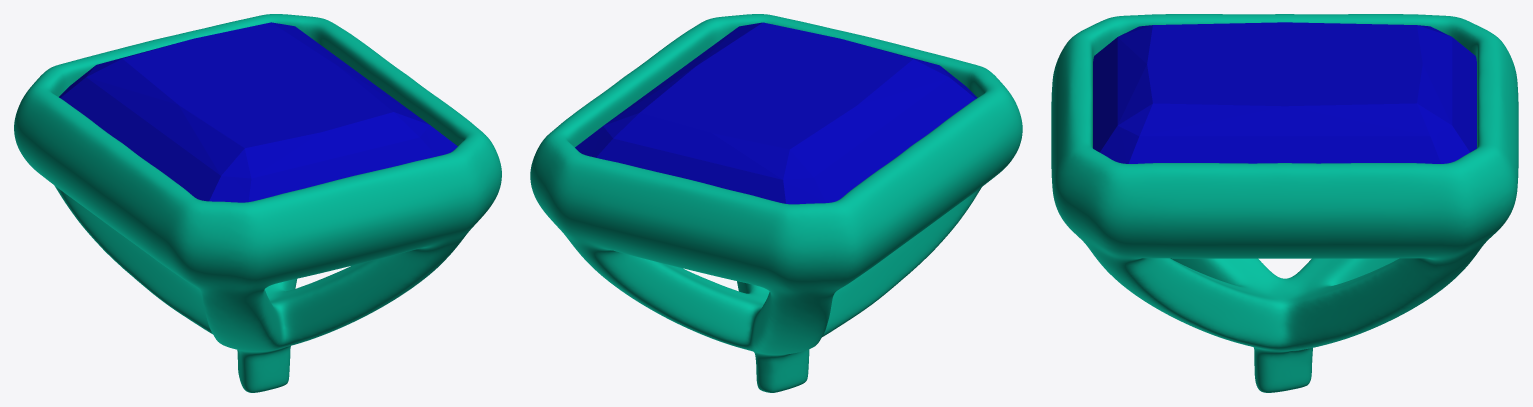
The model's file is Radiant.glb.
3 renders of one model, left to right at view 1: azimuth 30°, elevation 25°; view 2: azimuth 150°, elevation 25°; view 3: azimuth 270°, elevation 25°, orthographic. The views are drawn at different scales.
Visible parts, largest first — view 1: /GSMOD388300- BEZEL_Radiant_IJ.3dm, Diamond_Radiant; view 2: /GSMOD388300- BEZEL_Radiant_IJ.3dm, Diamond_Radiant; view 3: /GSMOD388300- BEZEL_Radiant_IJ.3dm, Diamond_Radiant.
Part boxes in pixels (x1,y1,x2,y2): /GSMOD388300- BEZEL_Radiant_IJ.3dm: (14, 14, 501, 392); Diamond_Radiant: (59, 22, 457, 202); /GSMOD388300- BEZEL_Radiant_IJ.3dm: (530, 14, 1022, 392); Diamond_Radiant: (575, 22, 977, 204); /GSMOD388300- BEZEL_Radiant_IJ.3dm: (1051, 14, 1518, 392); Diamond_Radiant: (1093, 22, 1476, 163).
Size of the model in its own units: 7.39 by 6.36 by 8.39.
